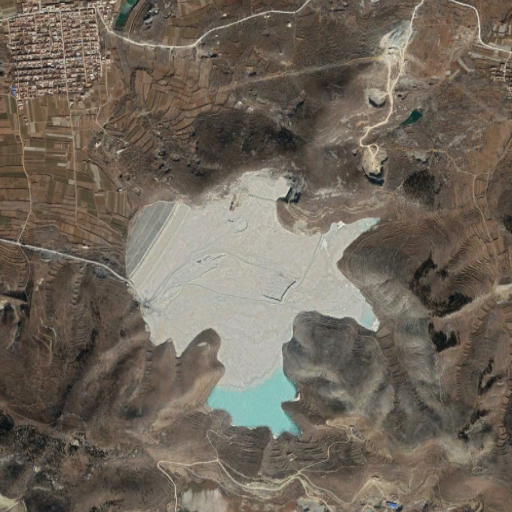tp: (124, 168, 381, 438)
